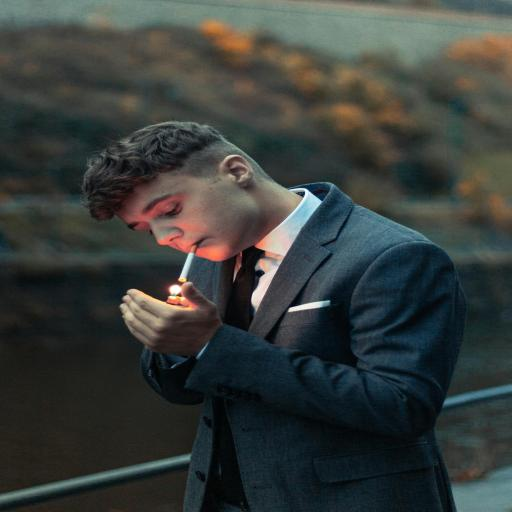terdeteksi merokok: (126, 216, 236, 322)
